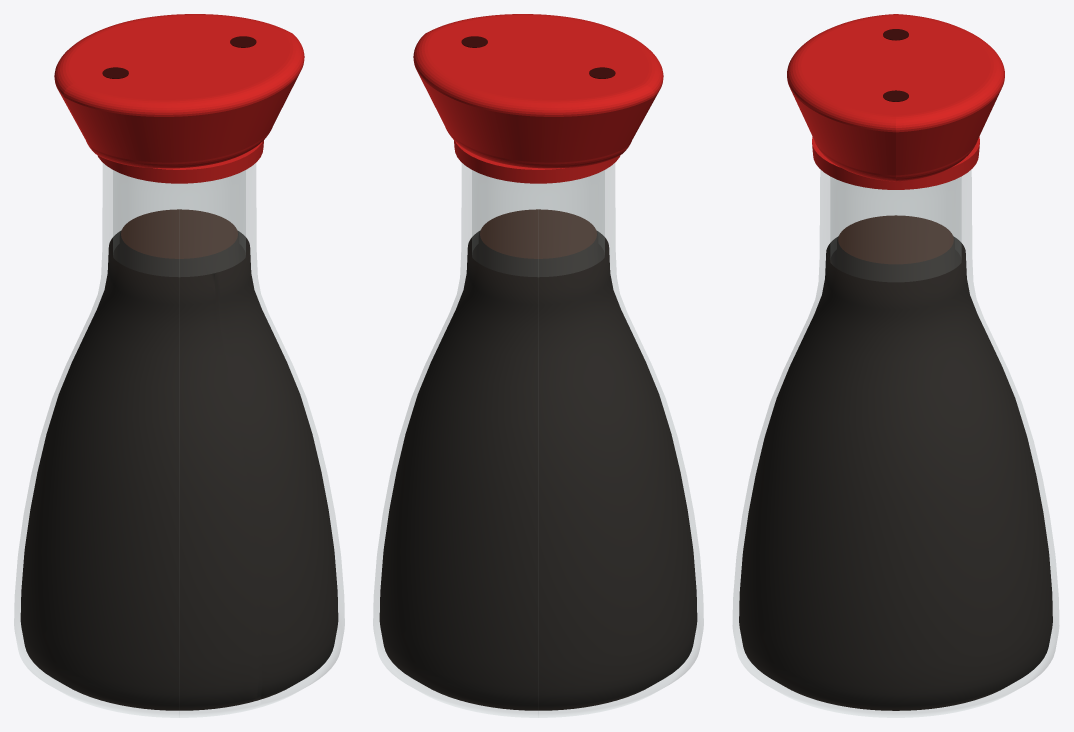
The model's file is sojasaucen-flasche.glb.
The picture shows the model from 3 angles, left to right: view 1: azimuth 30°, elevation 25°; view 2: azimuth 150°, elevation 25°; view 3: azimuth 270°, elevation 25°; orthographic projection.
Parts seen in each view (by area): view 1: bottle_glass, sauce_body, cap, sauce_meniscus, cap_grip_ring; view 2: bottle_glass, sauce_body, cap, sauce_meniscus, cap_grip_ring; view 3: bottle_glass, sauce_body, cap, sauce_meniscus, cap_grip_ring.
Boxes of the visible parts, x1,y1,x2,y2 form: bottle_glass: (14, 163, 344, 717); sauce_body: (20, 231, 338, 710); cap: (54, 14, 304, 168); sauce_meniscus: (121, 209, 237, 258); cap_grip_ring: (97, 140, 263, 183); bottle_glass: (373, 163, 703, 717); sauce_body: (379, 231, 697, 710); cap: (413, 14, 663, 168); sauce_meniscus: (480, 209, 596, 258); cap_grip_ring: (454, 140, 620, 183); bottle_glass: (732, 170, 1059, 717); sauce_body: (739, 236, 1052, 710); cap: (787, 14, 1004, 181); sauce_meniscus: (838, 215, 953, 264); cap_grip_ring: (812, 137, 979, 189).
Bounding box in the file's own units: 0.0548 × 0.1095 × 0.0548.
